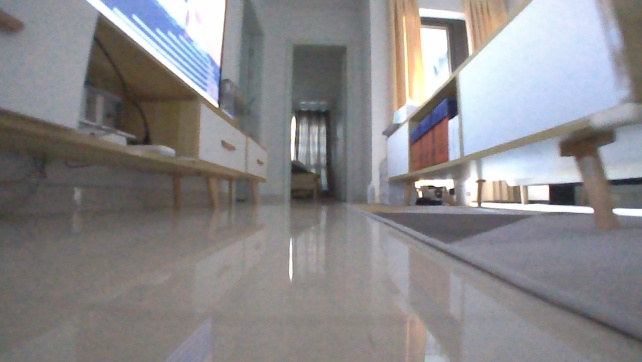TV_stand: (0, 0, 270, 212)
blanket: (340, 198, 641, 344)
tea_table: (379, 0, 641, 230)
wire: (95, 36, 152, 146)
